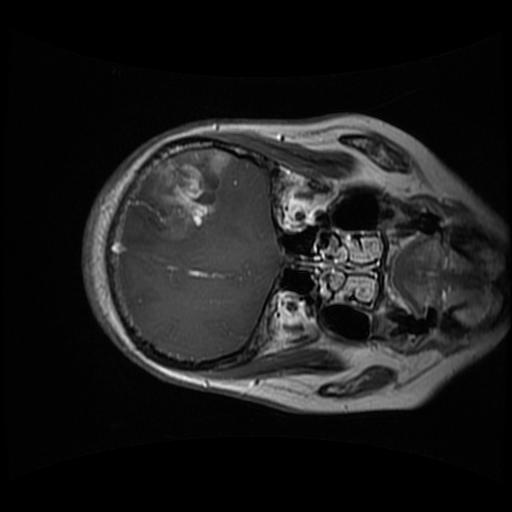glioma: (133, 148, 231, 244)
